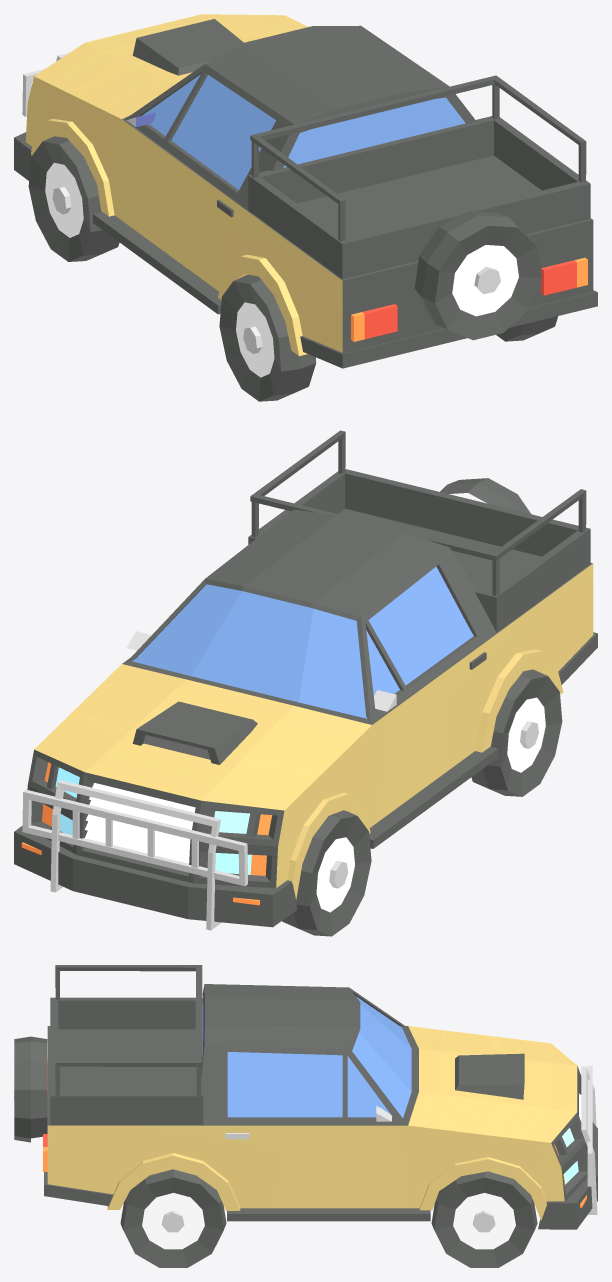
File: transport_jeep.004.glb
3 renders of one model, top to bottom at view 1: azimuth 30°, elevation 25°; view 2: azimuth 150°, elevation 25°; view 3: azimuth 270°, elevation 25°, orthographic. The views are drawn at different scales.
Visible parts, largest first — view 1: transport_jeep.004(Clone); view 2: transport_jeep.004(Clone); view 3: transport_jeep.004(Clone).
Part boxes in pixels (x1,y1,x2,y2): transport_jeep.004(Clone): (14,14,597,401); transport_jeep.004(Clone): (14,430,597,936); transport_jeep.004(Clone): (14,965,597,1267).
Bounding box in the file's own units: 1.76 × 1.48 × 3.87.
1 material, 1 textured.
